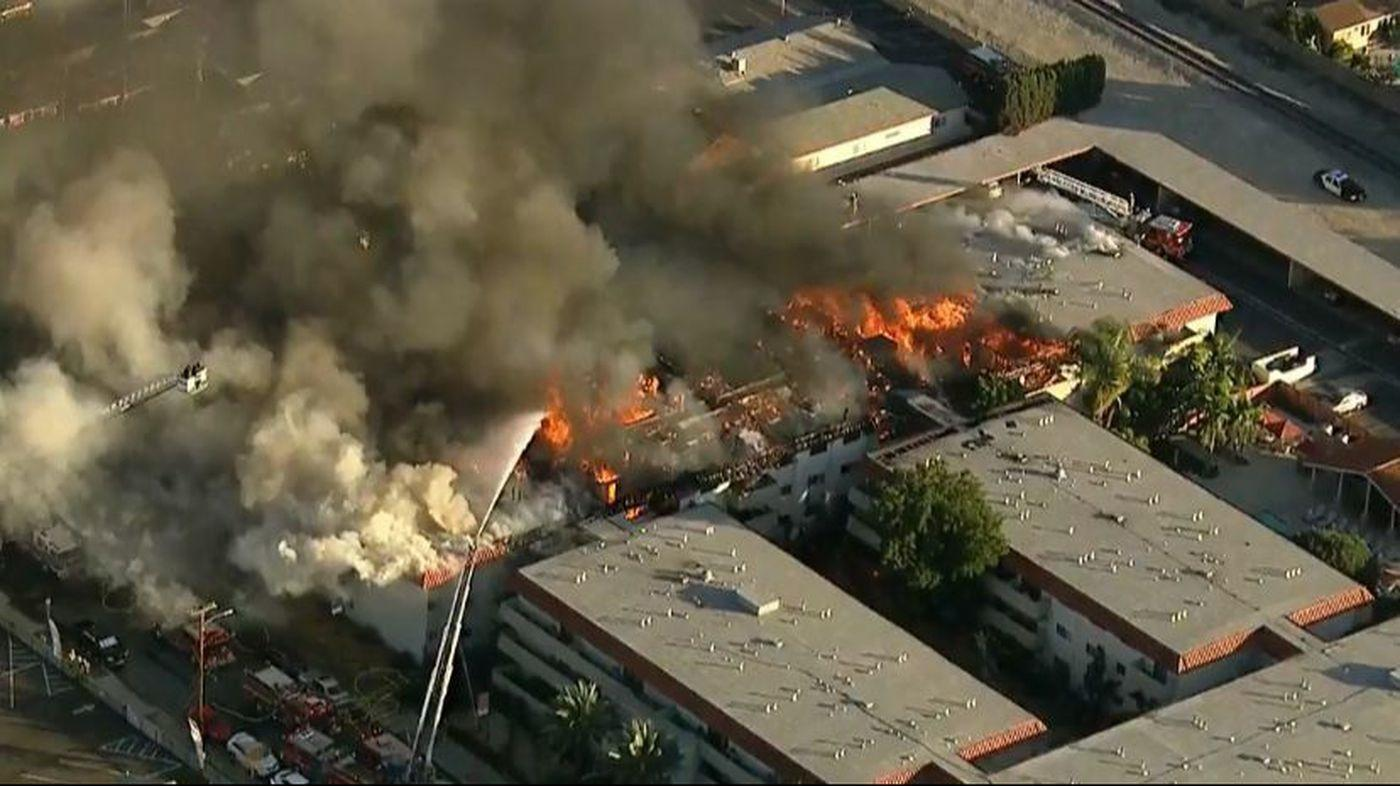fire: (548, 387, 662, 483), (803, 284, 982, 331)
smoke: (20, 166, 443, 548), (291, 7, 723, 162), (457, 173, 793, 367)
